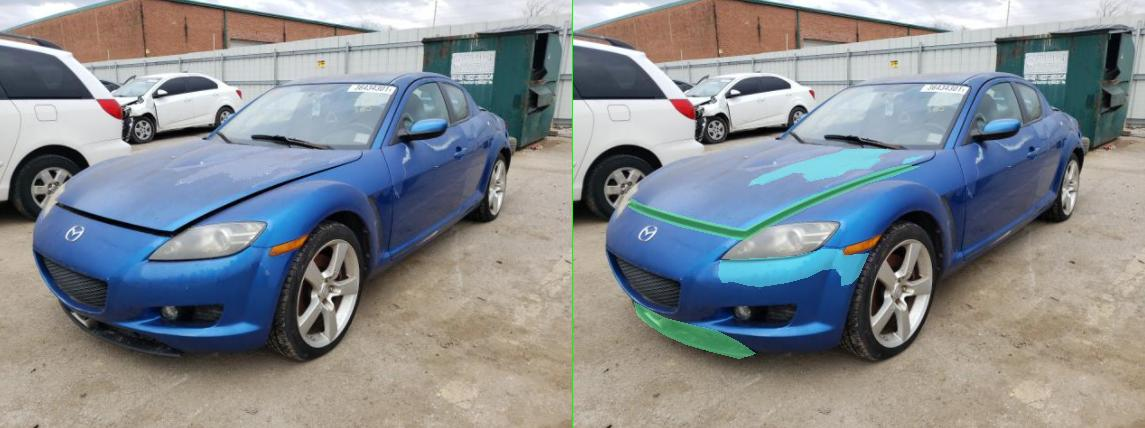Broken part: (110, 165, 693, 240), (122, 302, 364, 358)
Flaking: (290, 249, 591, 286), (352, 149, 635, 185), (661, 156, 701, 163)
